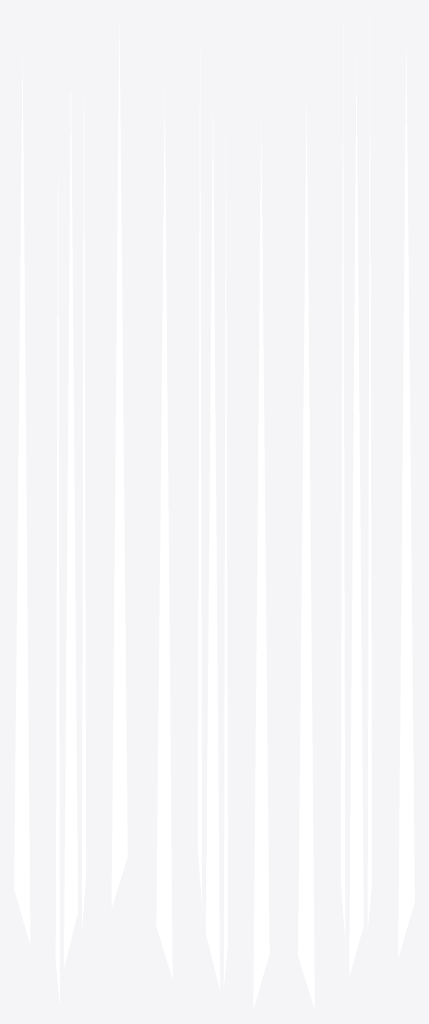
File: cannon3.glb
3 views of the same model, side by side, from view 1: azimuth 30°, elevation 25°; view 2: azimuth 150°, elevation 25°; view 3: azimuth 330°, elevation 25° (orthographic). The views are drawn at different scales.
Parts seen in each view (by area): view 1: group_13; view 2: group_13; view 3: group_13.
Part boxes in pixels (left/top/right/bottom): group_13: left=14, top=24, right=127, bottom=1006; group_13: left=156, top=49, right=269, bottom=1008; group_13: left=298, top=16, right=414, bottom=1008.
Size of the model in its own units: 202 by 2636 by 202.
1 material, 1 textured.
